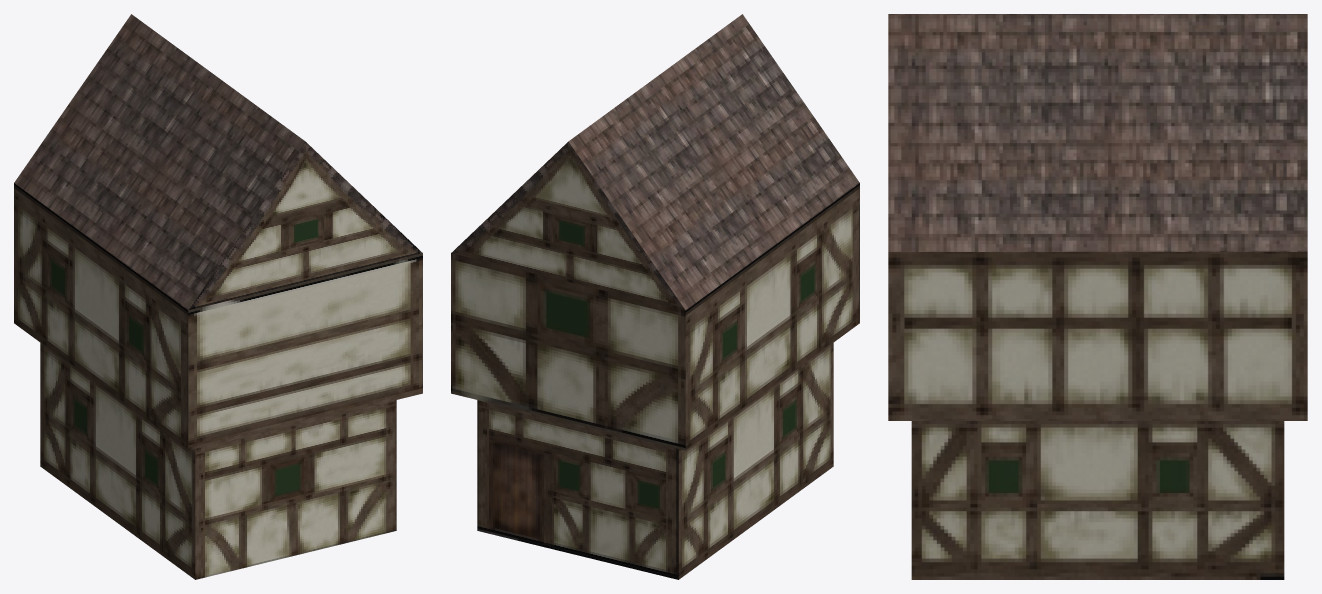
File: LowPoly_Tomedelic_MedievalHouse_03.fbx
The picture shows the model from 3 angles, left to right: view 1: azimuth 30°, elevation 25°; view 2: azimuth 150°, elevation 25°; view 3: azimuth 270°, elevation 25°; orthographic projection. The views are drawn at different scales.
Parts seen in each view (by area): view 1: Cube; view 2: Cube; view 3: Cube.
Part boxes in pixels (left/top/right/bottom): Cube: left=14, top=14, right=422, bottom=579; Cube: left=451, top=14, right=859, bottom=579; Cube: left=888, top=14, right=1307, bottom=579.
Bounding box in the file's own units: 350 × 600 × 450.
